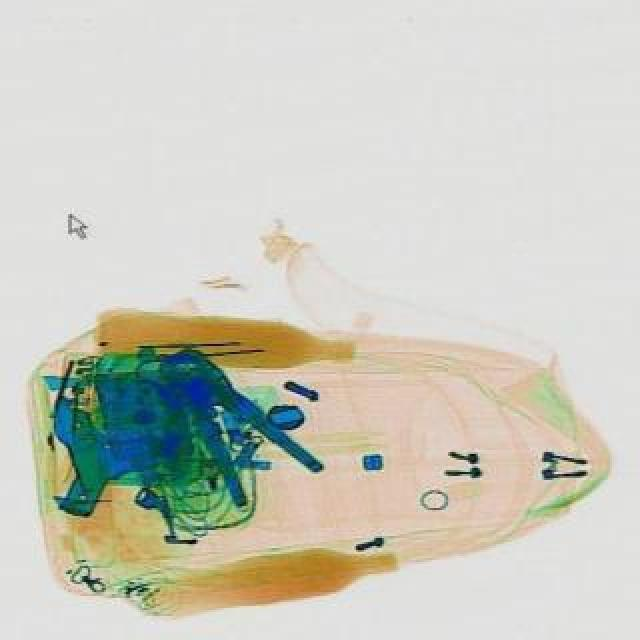wrench: (132, 326, 324, 520)
